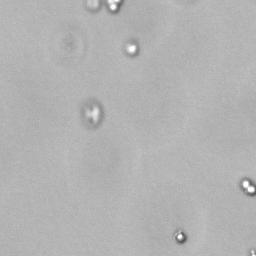budding: (239, 178, 256, 196)
individual: (174, 230, 186, 244)
